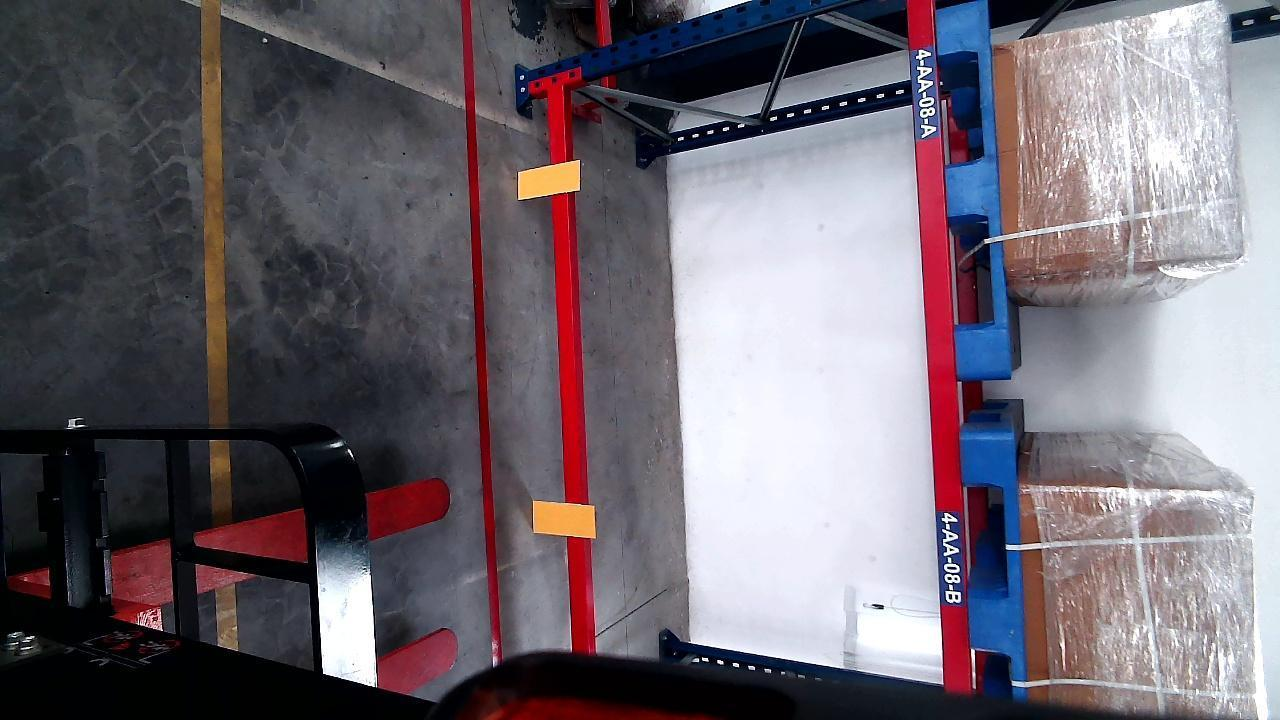h_rack: (546, 82, 593, 661)
orange_strip: (515, 160, 580, 200), (532, 501, 595, 536)
small_pallet: (938, 0, 1007, 376), (965, 433, 1025, 696)
yellow_line: (202, 4, 228, 417)
